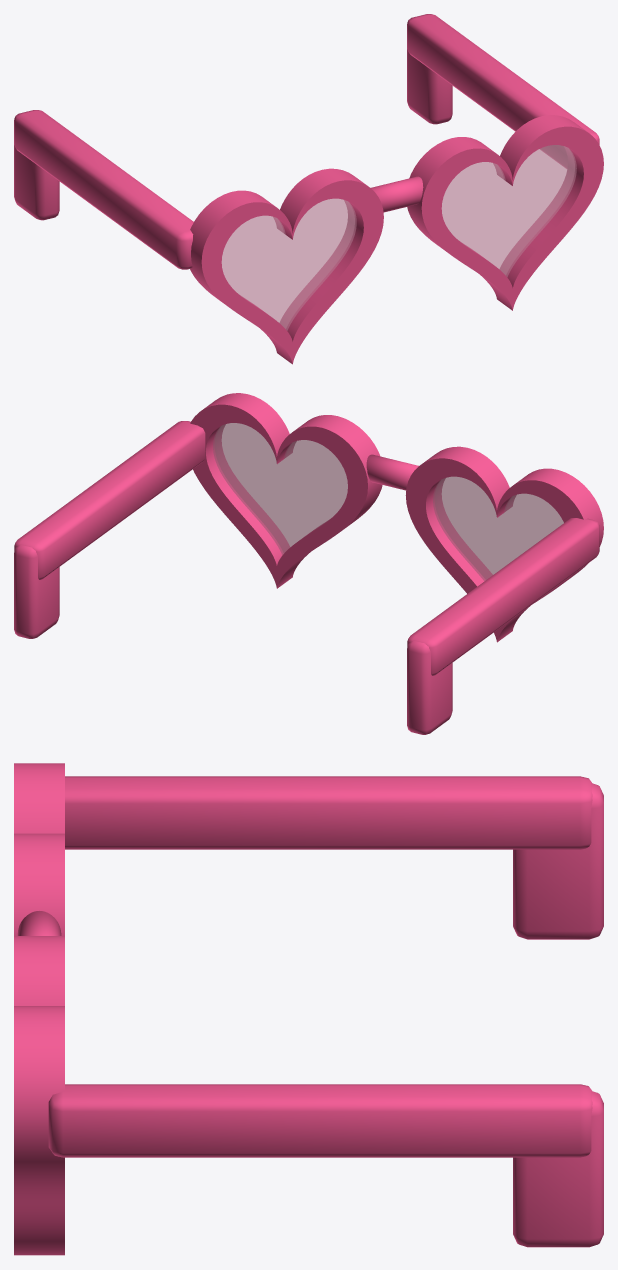
The model's file is heartglasses.glb.
3 views of the same model, one above another, from view 1: azimuth 30°, elevation 25°; view 2: azimuth 150°, elevation 25°; view 3: azimuth 270°, elevation 25° (orthographic). The views are drawn at different scales.
Visible parts, largest first — view 1: HeartFrameL, HeartFrameR, HeartLensL, HeartLensR, ArmL.003, ArmR.003, ArmRHook.003, ArmLHook.003, Bridge.002; view 2: HeartFrameR, HeartFrameL, HeartLensR, ArmL.003, ArmR.003, HeartLensL, ArmLHook.003, ArmRHook.003, Bridge.002; view 3: ArmR.003, ArmL.003, HeartFrameR, ArmLHook.003, ArmRHook.003, HeartFrameL, Bridge.002.
Boxes of the visible parts, bbox=[...] form: HeartFrameL: bbox=[190, 168, 383, 364]; HeartFrameR: bbox=[407, 115, 603, 310]; HeartLensL: bbox=[221, 198, 356, 330]; HeartLensR: bbox=[441, 145, 576, 276]; ArmL.003: bbox=[14, 110, 193, 269]; ArmR.003: bbox=[407, 14, 599, 168]; ArmRHook.003: bbox=[407, 17, 452, 124]; ArmLHook.003: bbox=[14, 113, 59, 220]; Bridge.002: bbox=[371, 176, 423, 212]; HeartFrameR: bbox=[190, 393, 382, 588]; HeartFrameL: bbox=[405, 446, 603, 642]; HeartLensR: bbox=[213, 423, 347, 554]; ArmL.003: bbox=[407, 518, 599, 675]; ArmR.003: bbox=[14, 421, 205, 579]; HeartLensL: bbox=[433, 476, 563, 580]; ArmLHook.003: bbox=[407, 641, 452, 734]; ArmRHook.003: bbox=[14, 545, 59, 638]; Bridge.002: bbox=[366, 454, 418, 490]; ArmR.003: bbox=[48, 1084, 592, 1157]; ArmL.003: bbox=[65, 776, 592, 849]; HeartFrameR: bbox=[14, 936, 64, 1255]; ArmLHook.003: bbox=[513, 783, 603, 939]; ArmRHook.003: bbox=[513, 1091, 603, 1247]; HeartFrameL: bbox=[14, 763, 64, 935]; Bridge.002: bbox=[17, 911, 61, 935].
Bounding box in the file's own units: 0.43 × 0.1677 × 0.324.
